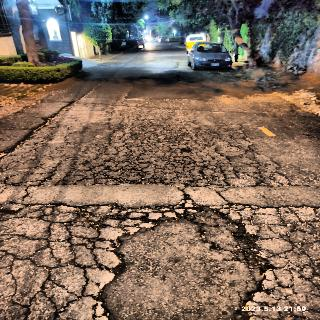alligator-crack: (3, 200, 320, 320), (79, 101, 280, 190), (0, 134, 79, 190)
crack: (0, 98, 79, 154)
